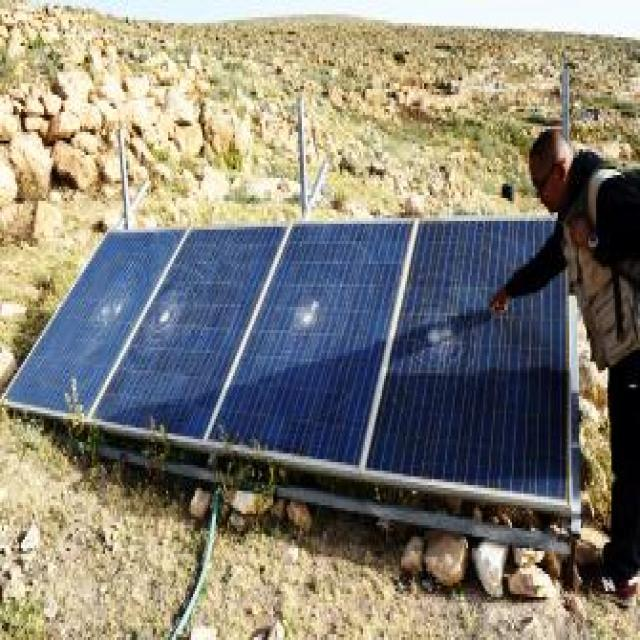faulty: (361, 215, 583, 508), (208, 213, 407, 470), (97, 211, 304, 455), (7, 218, 190, 416)
